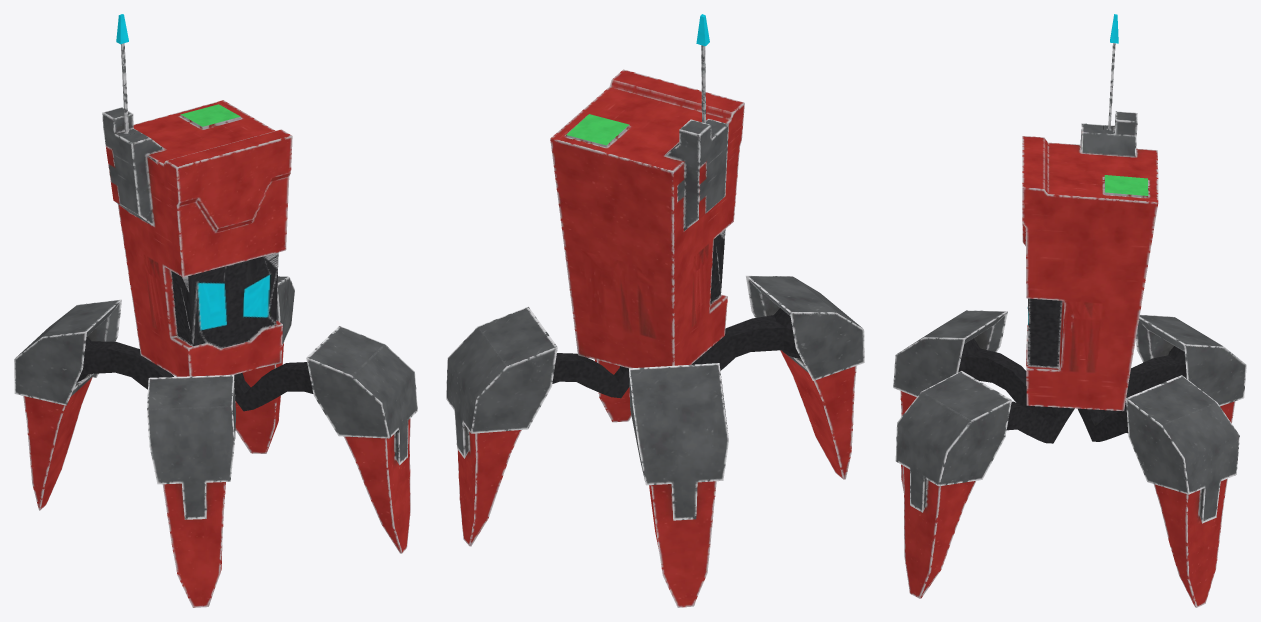
3 renders of one model, left to right at view 1: azimuth 30°, elevation 25°; view 2: azimuth 150°, elevation 25°; view 3: azimuth 270°, elevation 25°, orthographic. The views are drawn at different scales.
Parts seen in each view (by area): view 1: RoboticSpidy_Game; view 2: RoboticSpidy_Game; view 3: RoboticSpidy_Game.
Boxes of the visible parts, <box> form: RoboticSpidy_Game: <box>14,14,417,607</box>; RoboticSpidy_Game: <box>446,14,864,607</box>; RoboticSpidy_Game: <box>893,14,1246,607</box>.
Bounding box in the file's own units: 0.2482 × 0.45 × 0.2826.
1 material, 1 textured.
